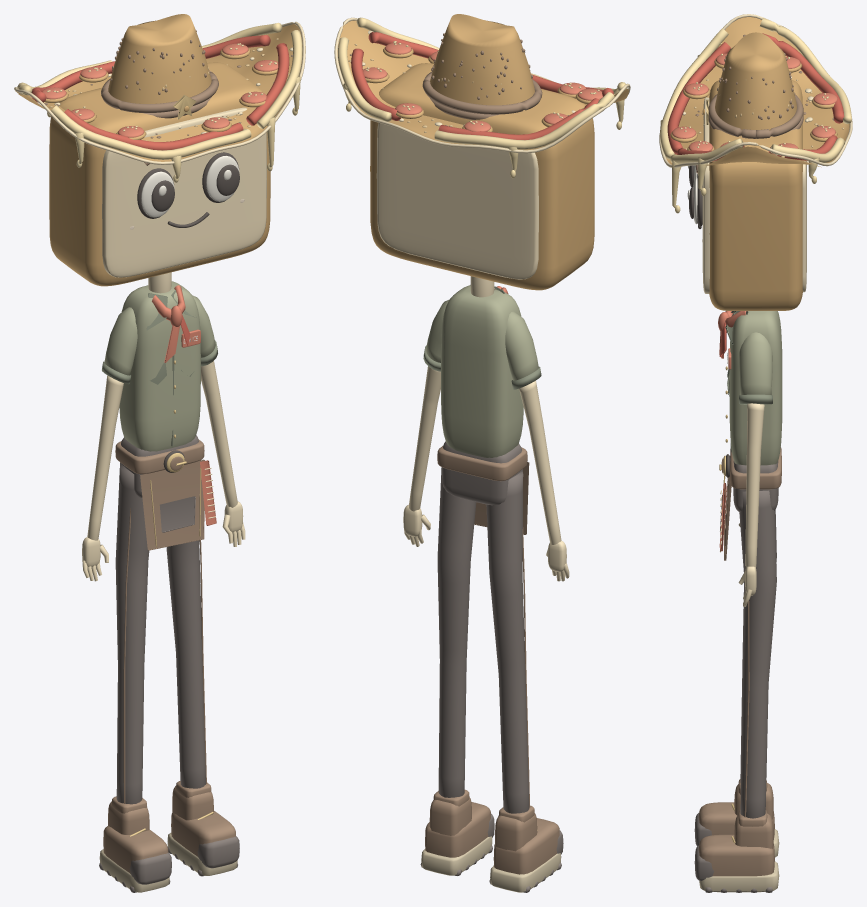
The model's file is ToastRanger.glb.
3 renders of one model, left to right at view 1: azimuth 30°, elevation 25°; view 2: azimuth 150°, elevation 25°; view 3: azimuth 270°, elevation 25°, orthographic. The views are drawn at different scales.
Parts seen in each view (by area): view 1: ToastRanger; view 2: ToastRanger; view 3: ToastRanger.
Boxes of the visible parts, x1,y1,x2,y2 form: ToastRanger: [14, 14, 305, 892]; ToastRanger: [334, 14, 630, 892]; ToastRanger: [659, 14, 852, 892].
Bounding box in the file's own units: 0.786 × 2.3 × 0.49.
